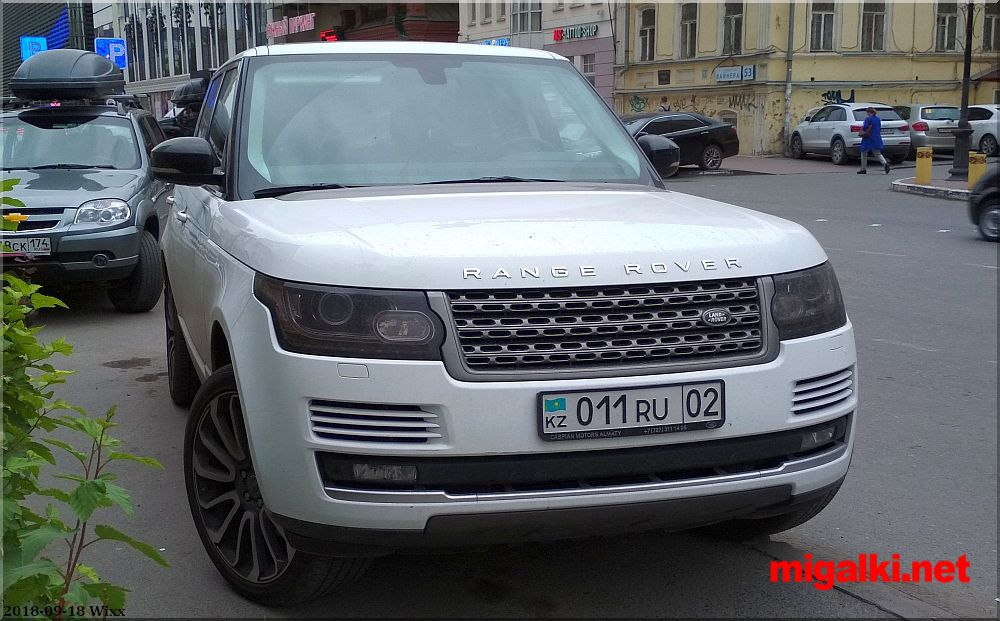license_plate: (538, 379, 725, 431)
